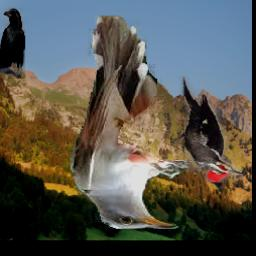Crow: (0, 9, 25, 80)
Cuckoo: (69, 16, 186, 229)
Woodpecker: (169, 76, 241, 182)
